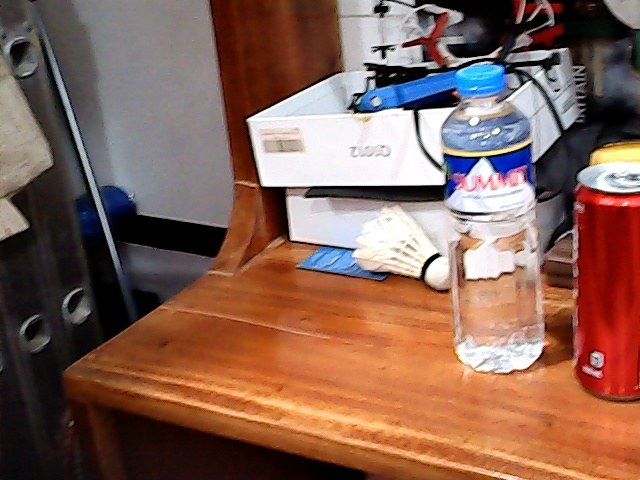Cola: (571, 160, 640, 389)
Summit Water: (439, 66, 547, 369)
